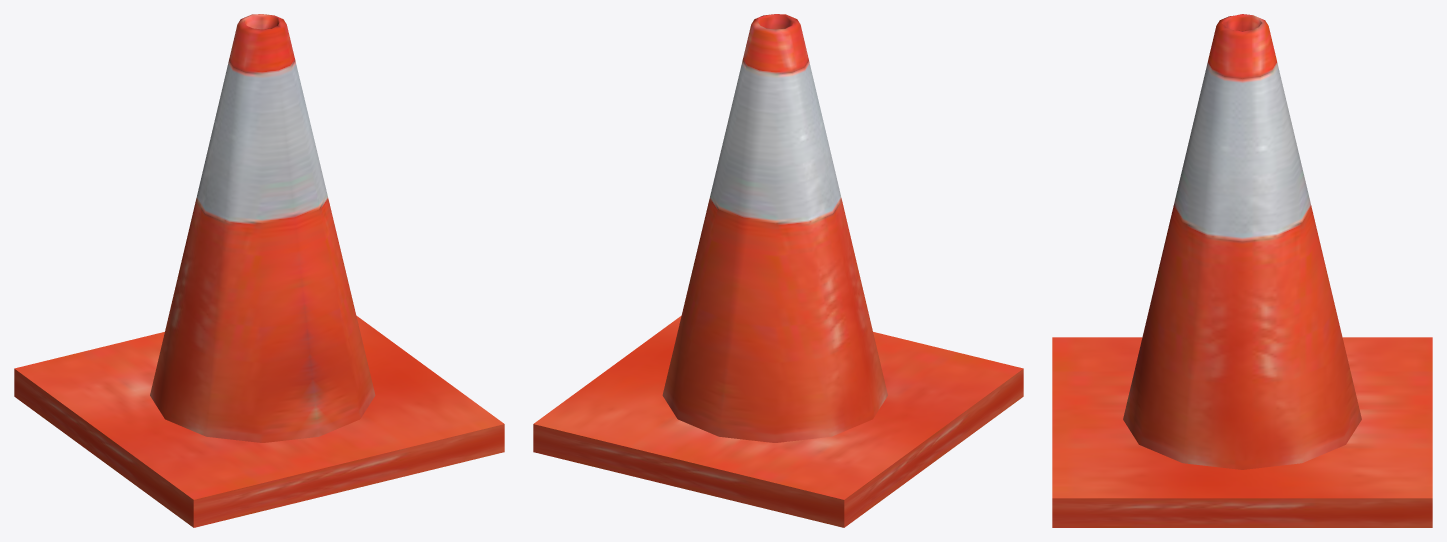
The model's file is orangepylonB_1.fbx.
3 views of the same model, side by side, from view 1: azimuth 30°, elevation 25°; view 2: azimuth 150°, elevation 25°; view 3: azimuth 270°, elevation 25° (orthographic). The views are drawn at different scales.
Visible parts, largest first — view 1: ChamferTube01, Box01; view 2: ChamferTube01, Box01; view 3: ChamferTube01, Box01.
Boxes of the visible parts, x1,y1,x2,y2 form: ChamferTube01: (150,14,375,442); Box01: (14,315,504,527); ChamferTube01: (662,14,887,442); Box01: (533,315,1023,527); ChamferTube01: (1123,14,1361,469); Box01: (1052,337,1432,527).
Size of the model in its own units: 35.43 by 43.76 by 35.43.
